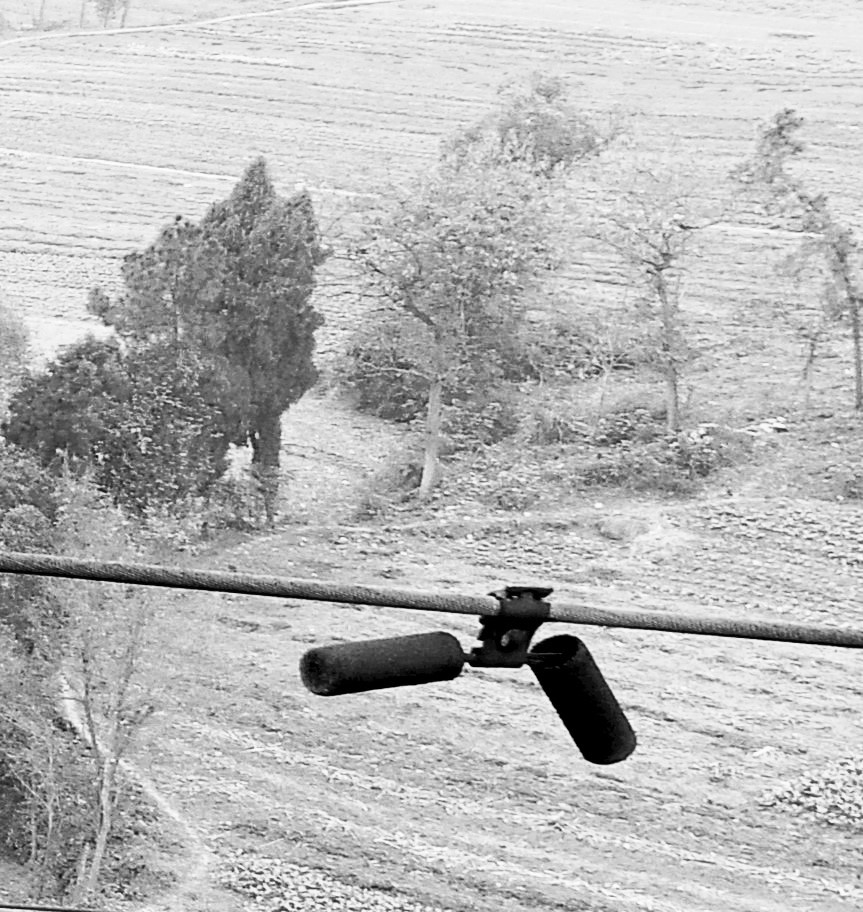Damage of shockproof hammer: (286, 561, 650, 783)
